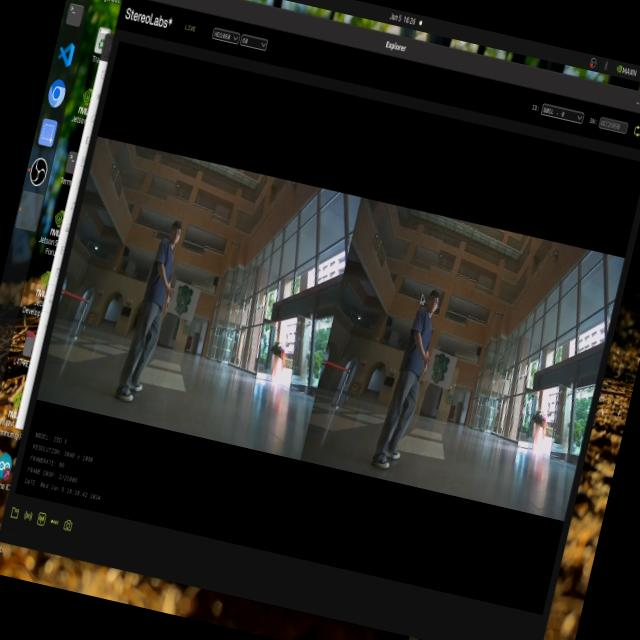green: (425, 343, 463, 400), (174, 280, 200, 320)
